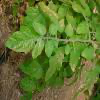Tomato leaf bacterial spot: (4, 24, 40, 57), (40, 2, 67, 36), (44, 41, 64, 83), (66, 47, 84, 76), (78, 41, 96, 64), (31, 38, 46, 61), (75, 16, 88, 36), (32, 22, 47, 36), (43, 39, 54, 58), (65, 23, 74, 40), (64, 43, 72, 56)
